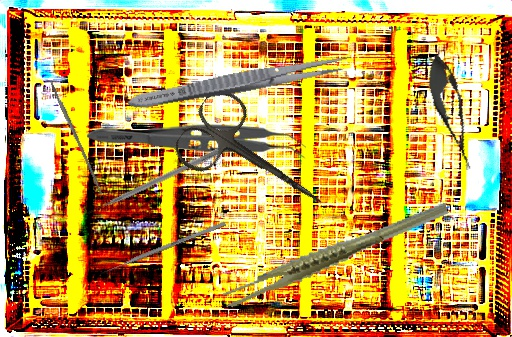Dressing Forceps: (125, 48, 354, 116)
Iris Scissors: (168, 81, 345, 241)
Micro Scissor: (419, 50, 484, 174)
Pusher: (84, 145, 225, 217), (98, 220, 227, 277)
Scalpel Handle: (48, 79, 105, 196)
Tissue Forceps: (213, 200, 458, 310), (87, 124, 306, 161)
